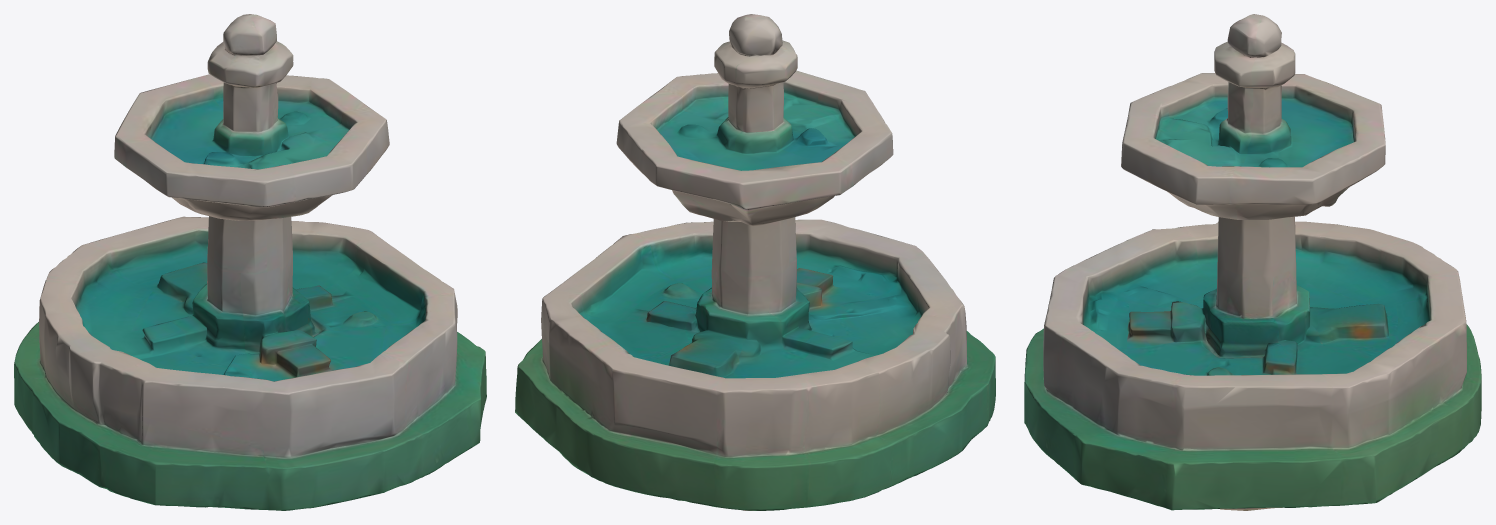
File: fountain.glb
3 views of the same model, side by side, from view 1: azimuth 30°, elevation 25°; view 2: azimuth 150°, elevation 25°; view 3: azimuth 270°, elevation 25° (orthographic).
Parts seen in each view (by area): view 1: tripo_node_9db92538-e44e-4881-82b5-6d7a80281047; view 2: tripo_node_9db92538-e44e-4881-82b5-6d7a80281047; view 3: tripo_node_9db92538-e44e-4881-82b5-6d7a80281047.
Part boxes in pixels (x1,y1,x2,y2): tripo_node_9db92538-e44e-4881-82b5-6d7a80281047: (14,14,486,510); tripo_node_9db92538-e44e-4881-82b5-6d7a80281047: (515,14,995,510); tripo_node_9db92538-e44e-4881-82b5-6d7a80281047: (1024,14,1481,510).
Size of the model in its own units: 0.8596 by 1 by 0.8629.
1 material, 1 textured.
